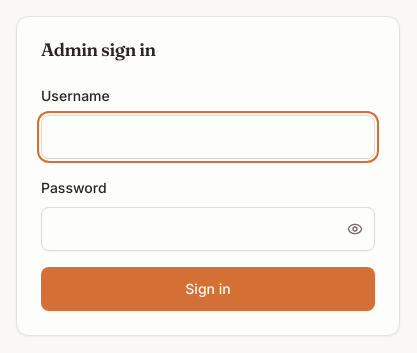
Test case: AdminLogin — loading and success › F8: disables the form and shows a spinner while in flight
Type "admin" into the field labelled "Username" at (208, 137), box [41, 115, 375, 159]
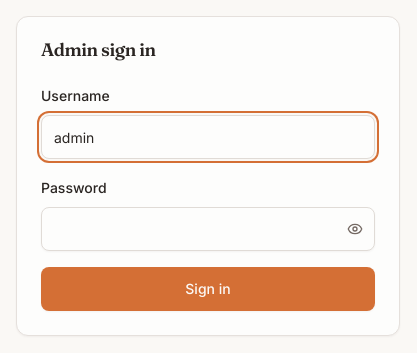
Type "s3cret" into the password field labelled "Password" at (208, 229), box [41, 207, 375, 251]
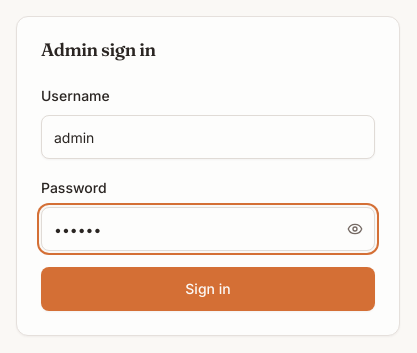
Click the button "Sign in" at (208, 289), box [41, 267, 375, 311]
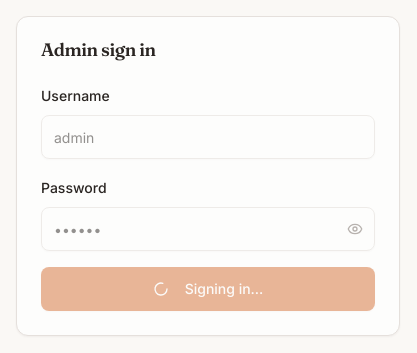
Expected: the button "Signing in…" is disabled, [41, 267, 375, 311]
Expected: the field labelled "Username" is disabled, [41, 115, 375, 159]
Expected: the password field labelled "Password" is disabled, [41, 207, 375, 251]
